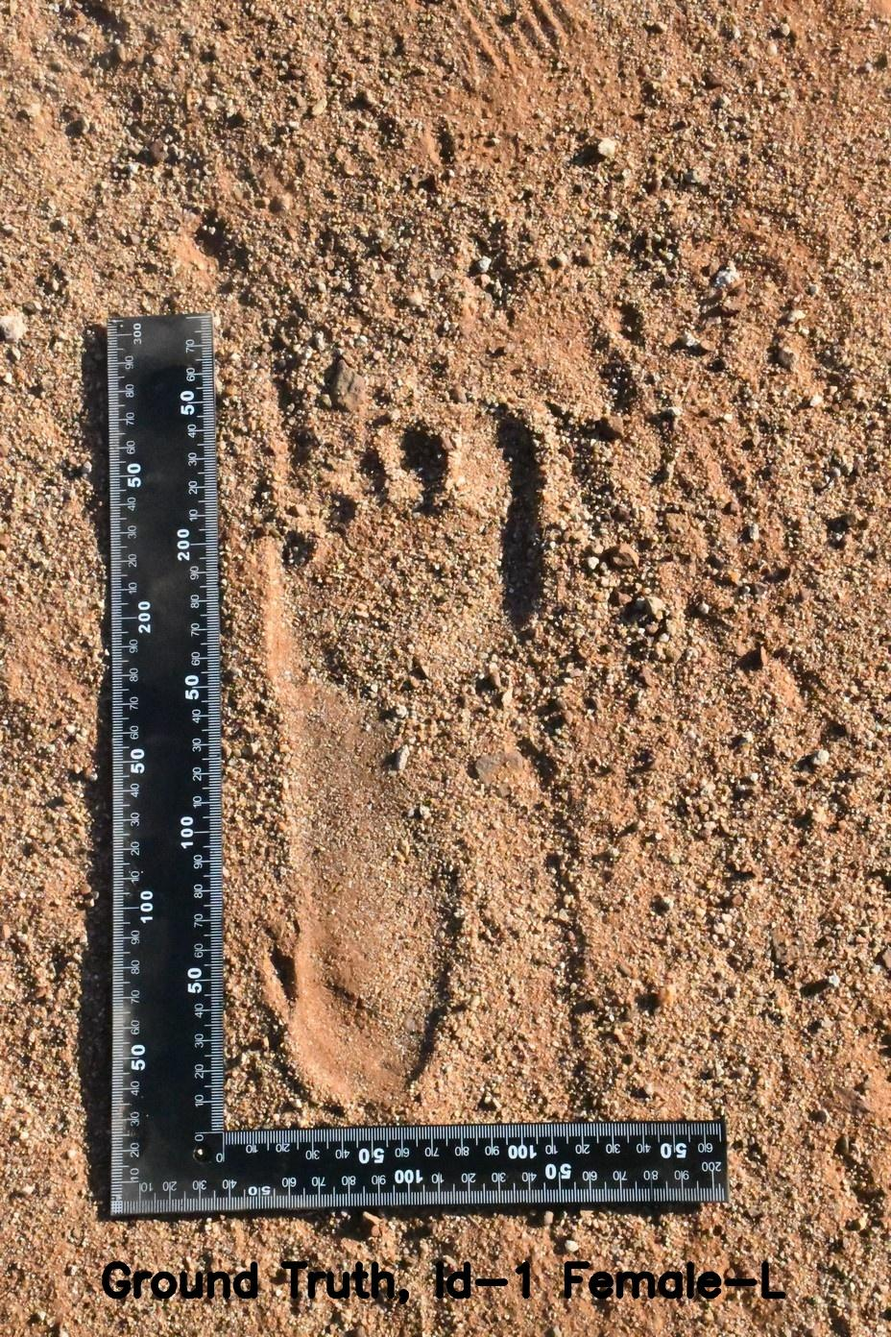human_foot_print: (266, 254, 666, 1114)
